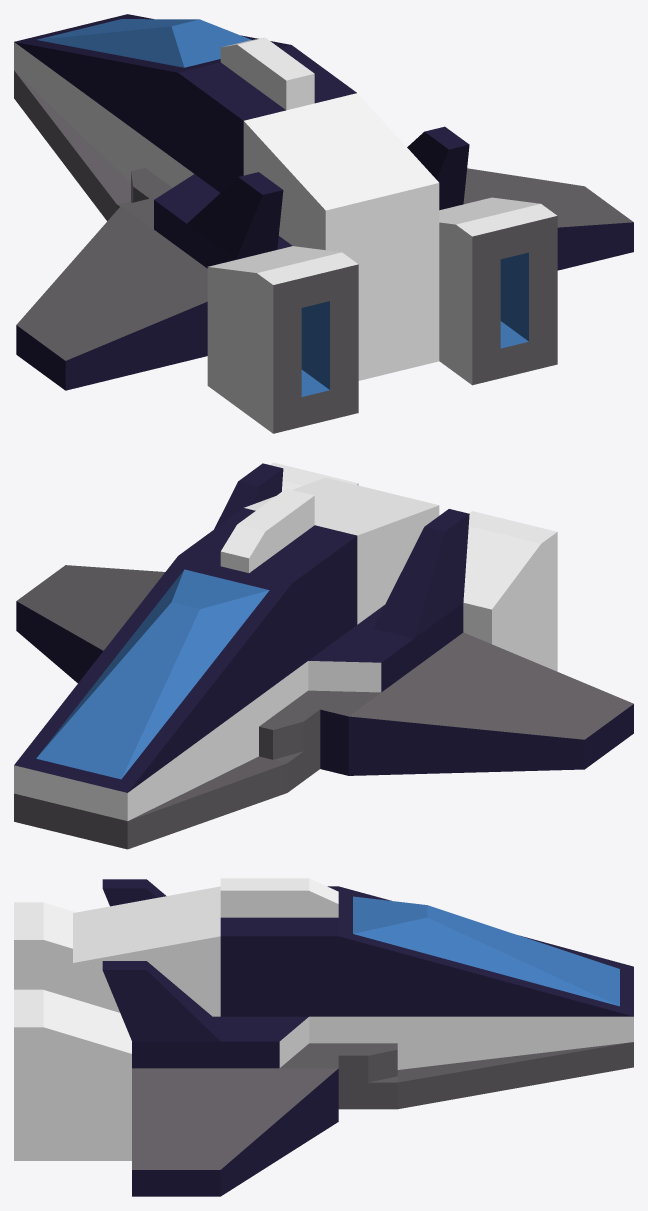
The model's file is spaceship.glb.
3 renders of one model, top to bottom at view 1: azimuth 30°, elevation 25°; view 2: azimuth 150°, elevation 25°; view 3: azimuth 270°, elevation 25°, orthographic. The views are drawn at different scales.
Parts seen in each view (by area): view 1: craft_speederA; view 2: craft_speederA; view 3: craft_speederA.
Boxes of the visible parts, box(x1,y1,x2,y2) form: craft_speederA: box(14, 14, 633, 433); craft_speederA: box(14, 462, 633, 849); craft_speederA: box(14, 878, 633, 1196).
Size of what is drawn, in the model's own units: 2 by 0.8 by 2.1.
